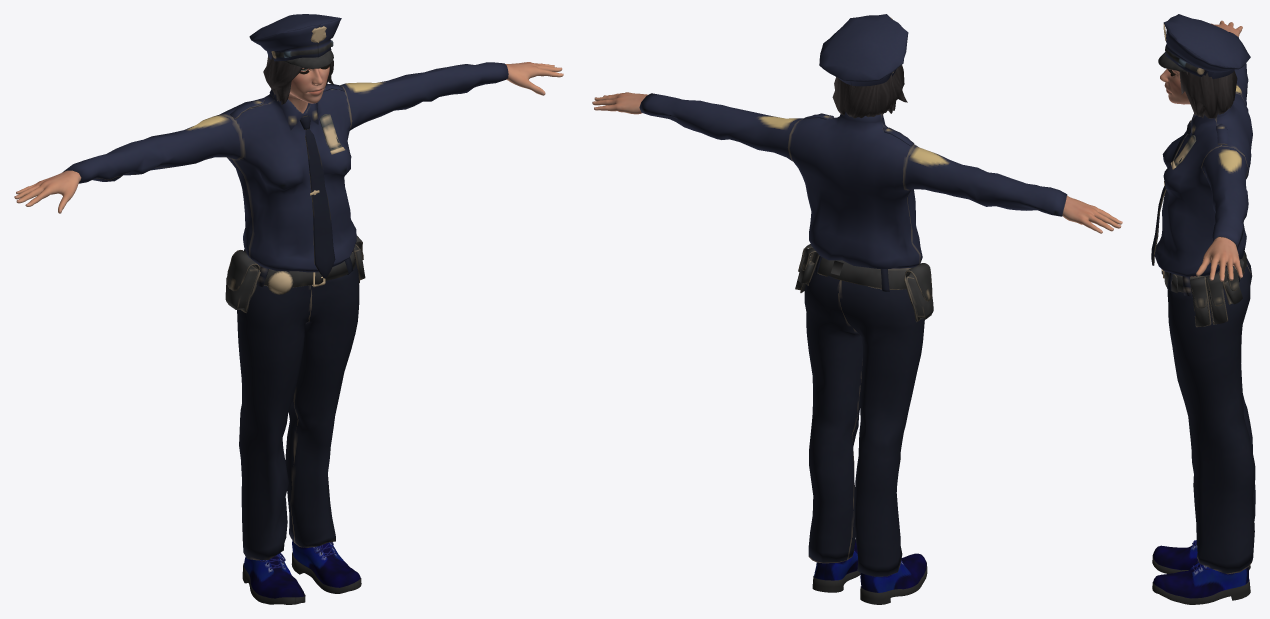
3 renders of one model, left to right at view 1: azimuth 30°, elevation 25°; view 2: azimuth 150°, elevation 25°; view 3: azimuth 270°, elevation 25°, orthographic. The views are drawn at different scales.
Visible parts, largest first — view 1: Bottoms, Tops, Shoes, Body, Hats, Hair; view 2: Bottoms, Tops, Hats, Shoes, Hair, Body; view 3: Bottoms, Tops, Hats, Shoes, Body, Hair.
Boxes of the visible parts, x1,y1,x2,y2 form: Bottoms: [225, 235, 365, 560]; Tops: [62, 62, 508, 278]; Shoes: [242, 540, 361, 604]; Body: [14, 62, 563, 213]; Hats: [249, 14, 341, 68]; Hair: [263, 55, 333, 104]; Bottoms: [795, 244, 933, 576]; Tops: [639, 93, 1067, 268]; Hats: [819, 14, 908, 86]; Shoes: [812, 539, 927, 604]; Hair: [832, 65, 907, 118]; Body: [592, 92, 1122, 233]; Bottoms: [1161, 251, 1255, 574]; Tops: [1151, 32, 1252, 276]; Hats: [1158, 14, 1250, 78]; Shoes: [1152, 540, 1250, 604]; Body: [1160, 20, 1242, 281]; Hair: [1179, 71, 1237, 118].
Bounding box in the file's own units: 179 × 181 × 30.52.
